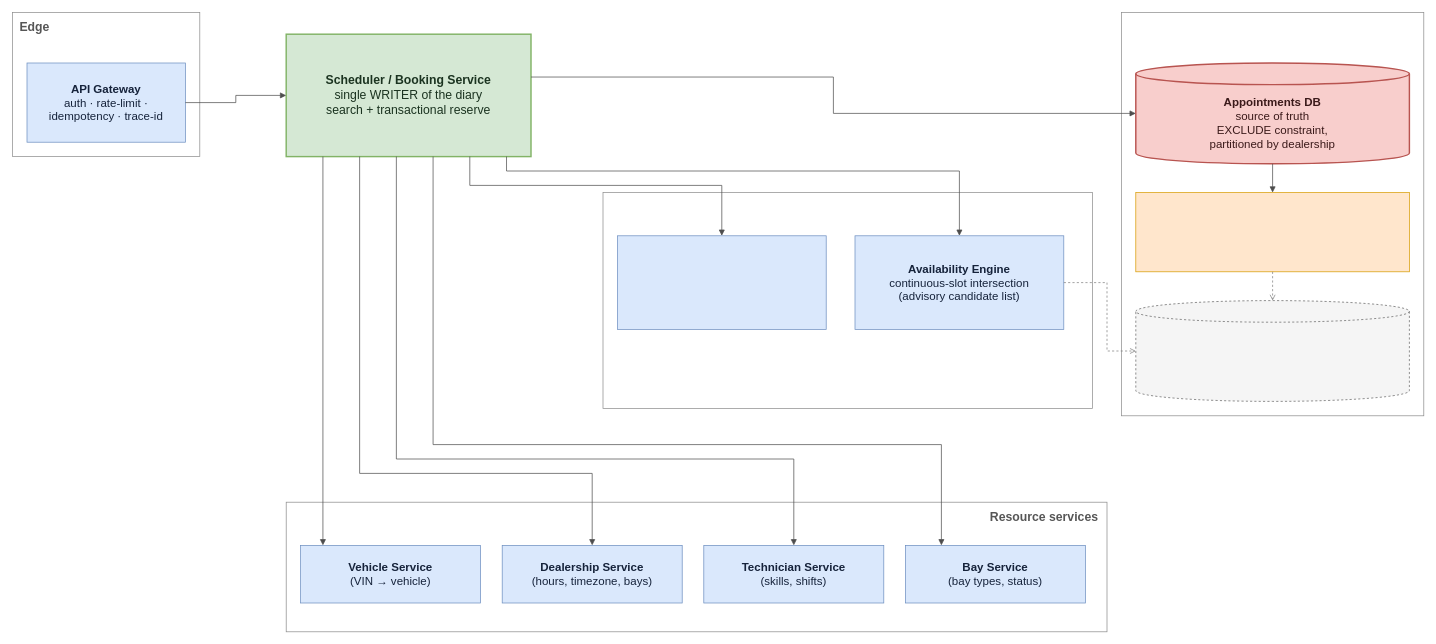
This 1436x644 diagram has some shape labels left out. The box of each missing label's shape, as (x1, y1, x2, y2) in pixels:
Availability read model (optional) derived free intervals: (1135, 300, 1409, 401)
Core logic: (602, 192, 1093, 409)
Data: (1121, 12, 1424, 416)
Outbox → Event Stream AppointmentCreated / Updated / Cancelled: (1135, 192, 1409, 272)
Service Catalog service types, skills, bay types, buffers: (617, 235, 826, 329)
